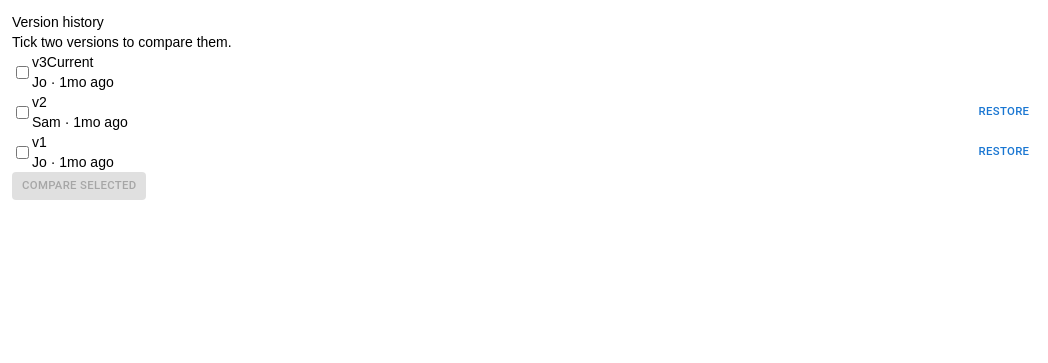
Test: JL-109 compare › reports a rename, which the body diff cannot show
Expected: the text "v3" is shown, [32,54,94,70]
Step 1. Click the checkbox named "Select version 1 to compare" → click(22, 152), box [16,146,29,158]
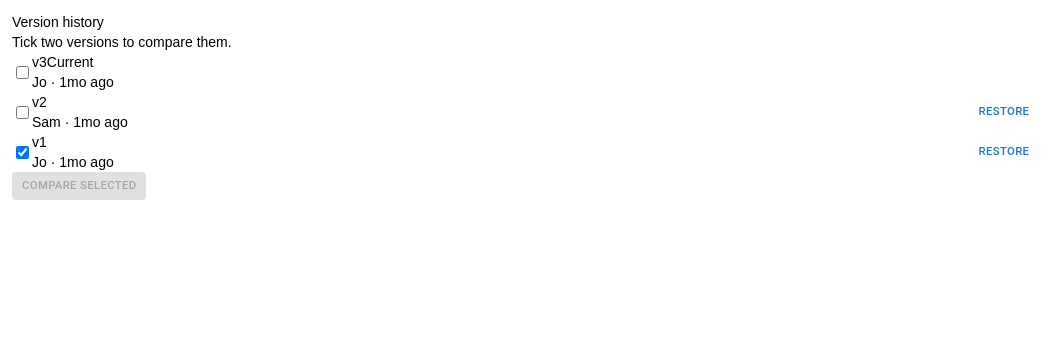
Step 2. Click the checkbox named "Select version 3 to compare" → click(22, 72), box [16,66,29,78]
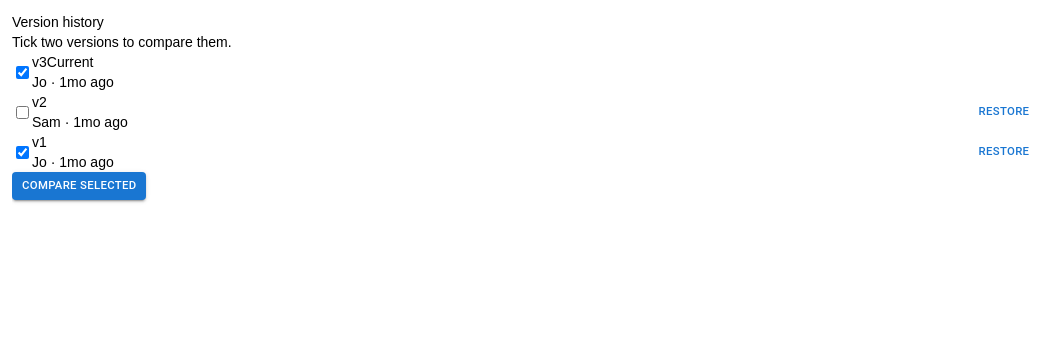
Step 3. Click the button "Compare selected" → click(79, 186), box [12,172,146,200]
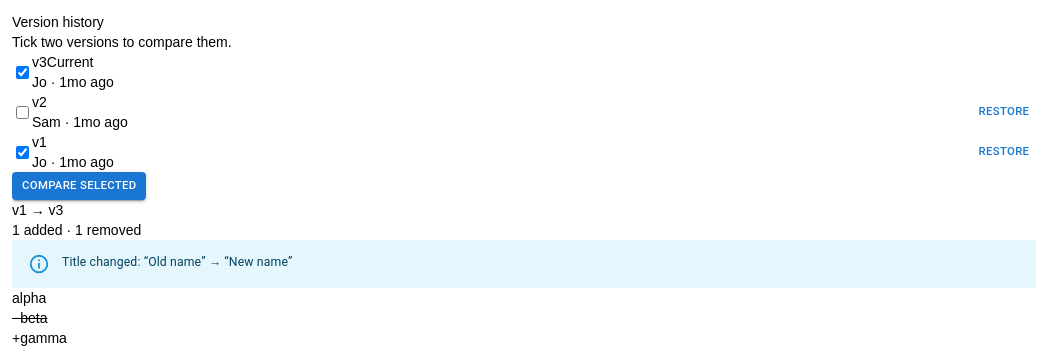
Expected: the text "Title changed: “Old name” → “New name”" is shown, [62,255,292,269]
